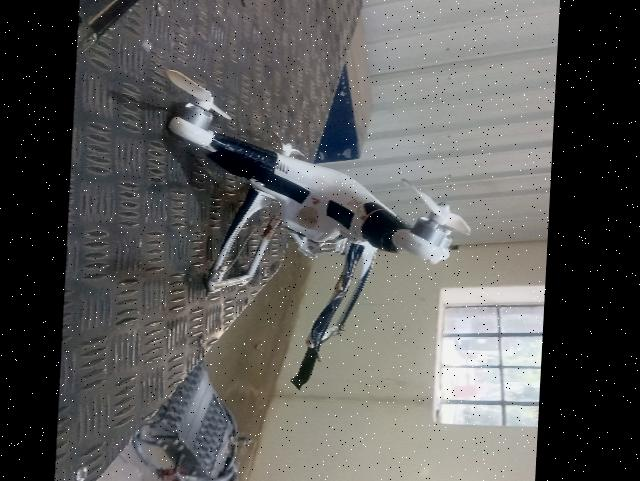drone: (121, 14, 489, 400)
